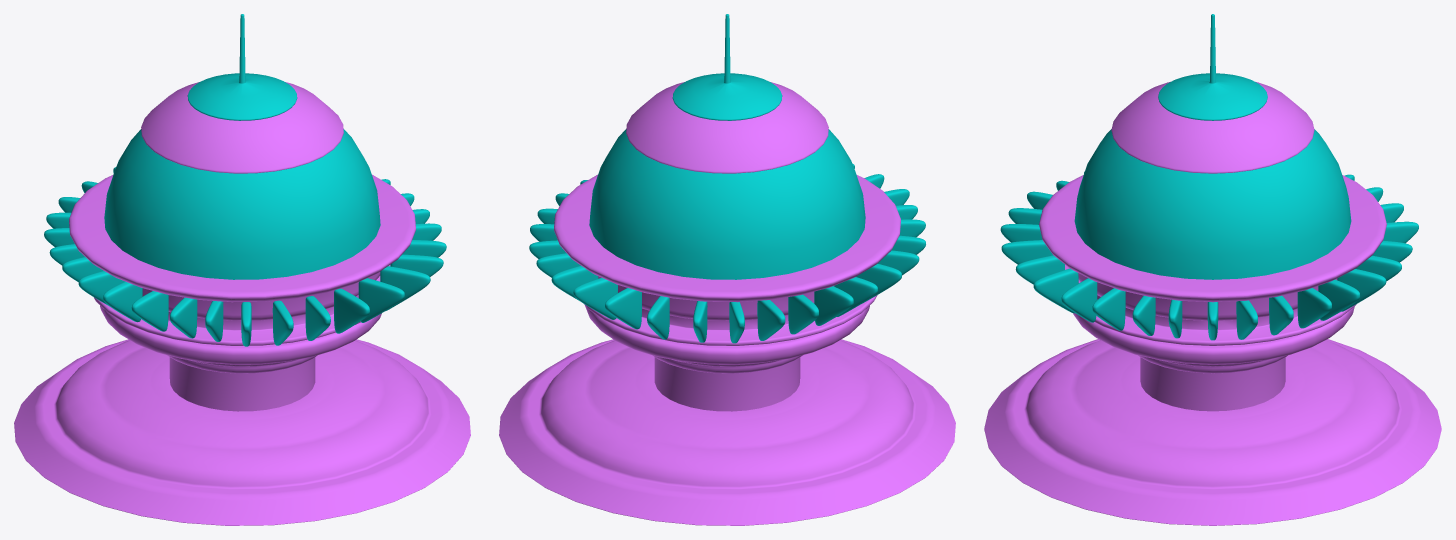
Rendered from Buildings-2.fbx.
3 views of the same model, side by side, from view 1: azimuth 30°, elevation 25°; view 2: azimuth 150°, elevation 25°; view 3: azimuth 270°, elevation 25° (orthographic).
Parts seen in each view (by area): view 1: Buildings-2; view 2: Buildings-2; view 3: Buildings-2.
Part boxes in pixels (x1=…): Buildings-2: x1=14, y1=14, x2=470, y2=525; Buildings-2: x1=499, y1=14, x2=955, y2=525; Buildings-2: x1=984, y1=14, x2=1441, y2=525.
Bounding box in the file's own units: 925 × 926 × 925.
